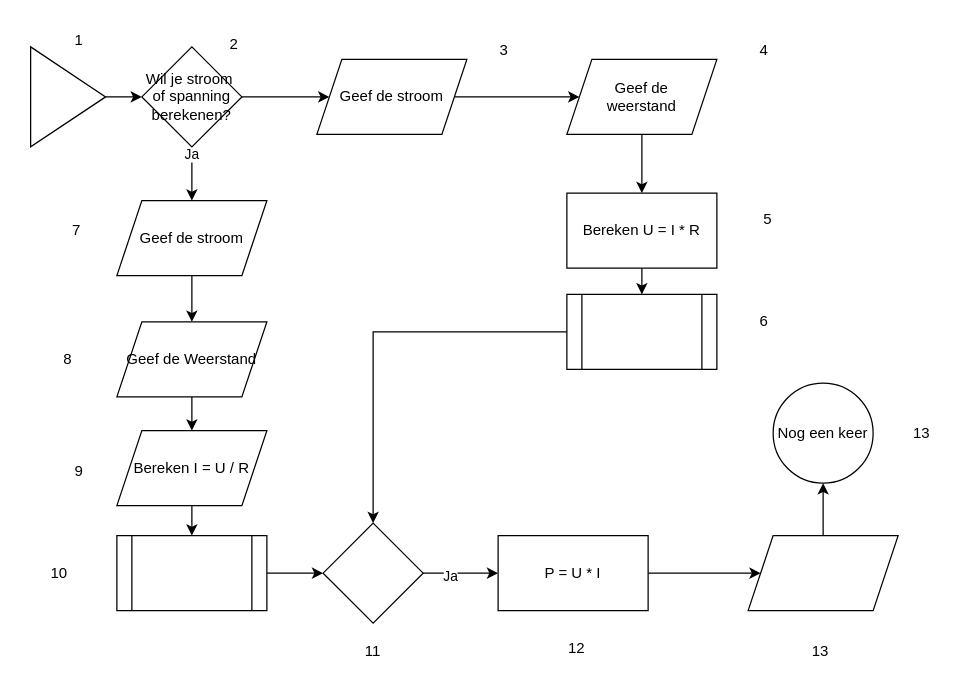
Image size: 980x691. Some labels were removed from this diagram. The shapes that lost their labels are listed below. From the top down, each one's box as (x1, y1, x2, y2) in pixels, then its label:
(29, 46, 106, 147): Start
(566, 293, 717, 369): Toon R op scherm
(116, 534, 267, 611): Toon I op scherm
(322, 522, 423, 623): Wil je ook P Bekereken ?
(747, 534, 898, 611): Toon P
